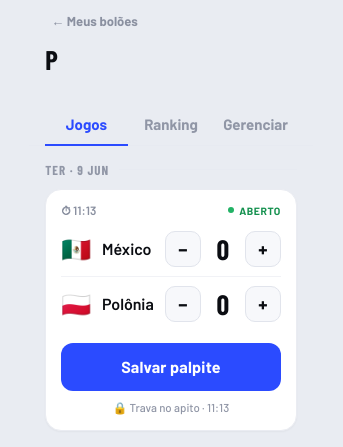
it: PoolPage › organizer: Gerenciar tab shows requester email when present
Click the button "Gerenciar". click: (256, 124)
box: [214,104,297,146]
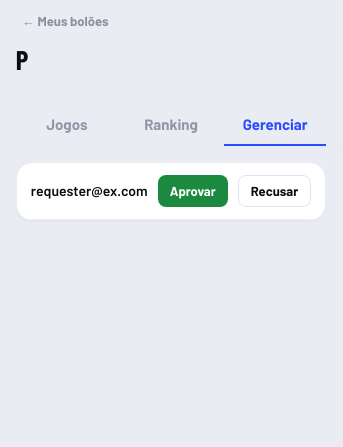
Result: the text "requester@ex.com" is shown at [31,182,148,199]
